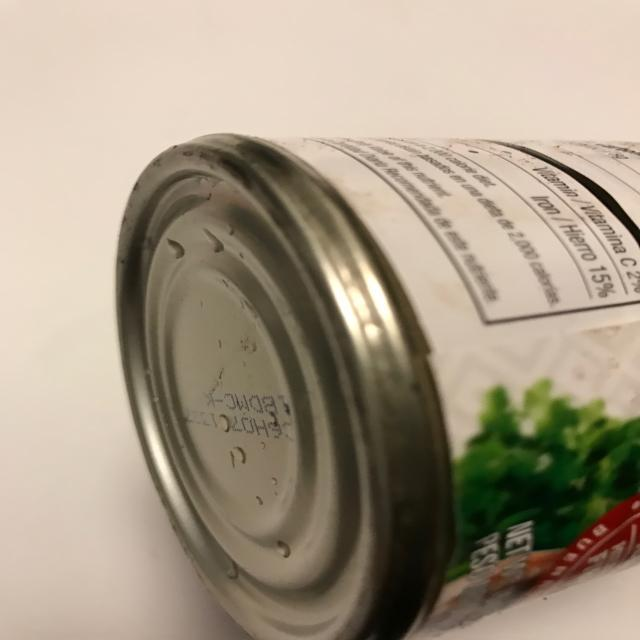metal: (114, 134, 640, 640)
